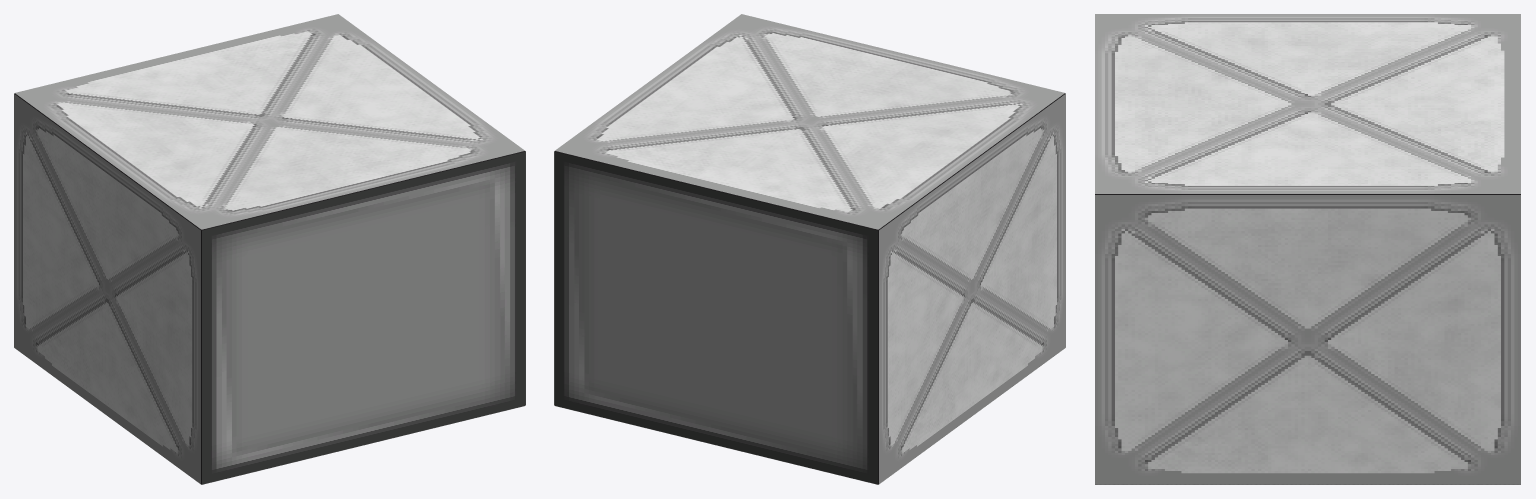
Rendered from boiler.obj.
The picture shows the model from 3 angles, left to right: view 1: azimuth 30°, elevation 25°; view 2: azimuth 150°, elevation 25°; view 3: azimuth 270°, elevation 25°; orthographic projection. The views are drawn at different scales.
Parts seen in each view (by area): view 1: Boiler6, Boiler5, Boiler3, Boiler1; view 2: Boiler7, Boiler5, Boiler3, Boiler1; view 3: Boiler4, Boiler5.
Boxes of the visible parts, x1,y1,x2,y2 form: Boiler6: (202, 151, 525, 484); Boiler5: (15, 14, 524, 229); Boiler3: (14, 94, 200, 483); Boiler1: (15, 93, 524, 484); Boiler7: (554, 151, 877, 484); Boiler5: (555, 14, 1064, 229); Boiler3: (879, 94, 1065, 483); Boiler1: (555, 93, 1064, 484); Boiler4: (1095, 195, 1520, 484); Boiler5: (1095, 14, 1520, 193).
Bounding box in the file's own units: 12.04 × 9.04 × 12.04.
4 materials, 3 textured.
